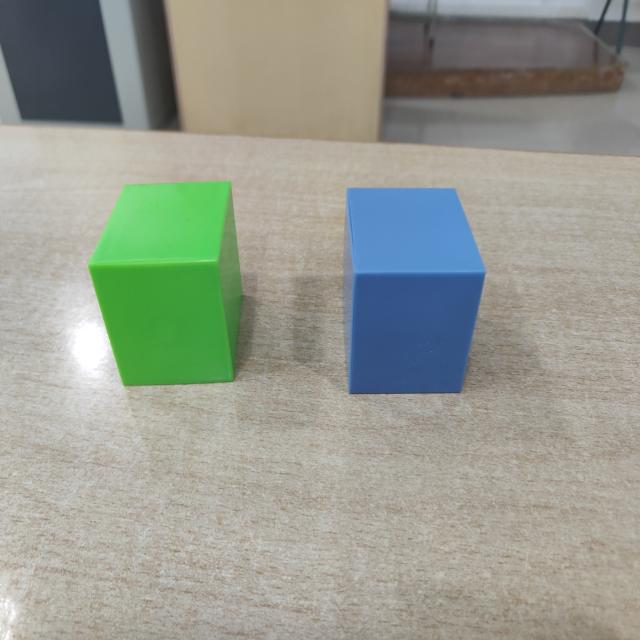blue: (345, 187, 486, 399)
green: (87, 180, 242, 389)
